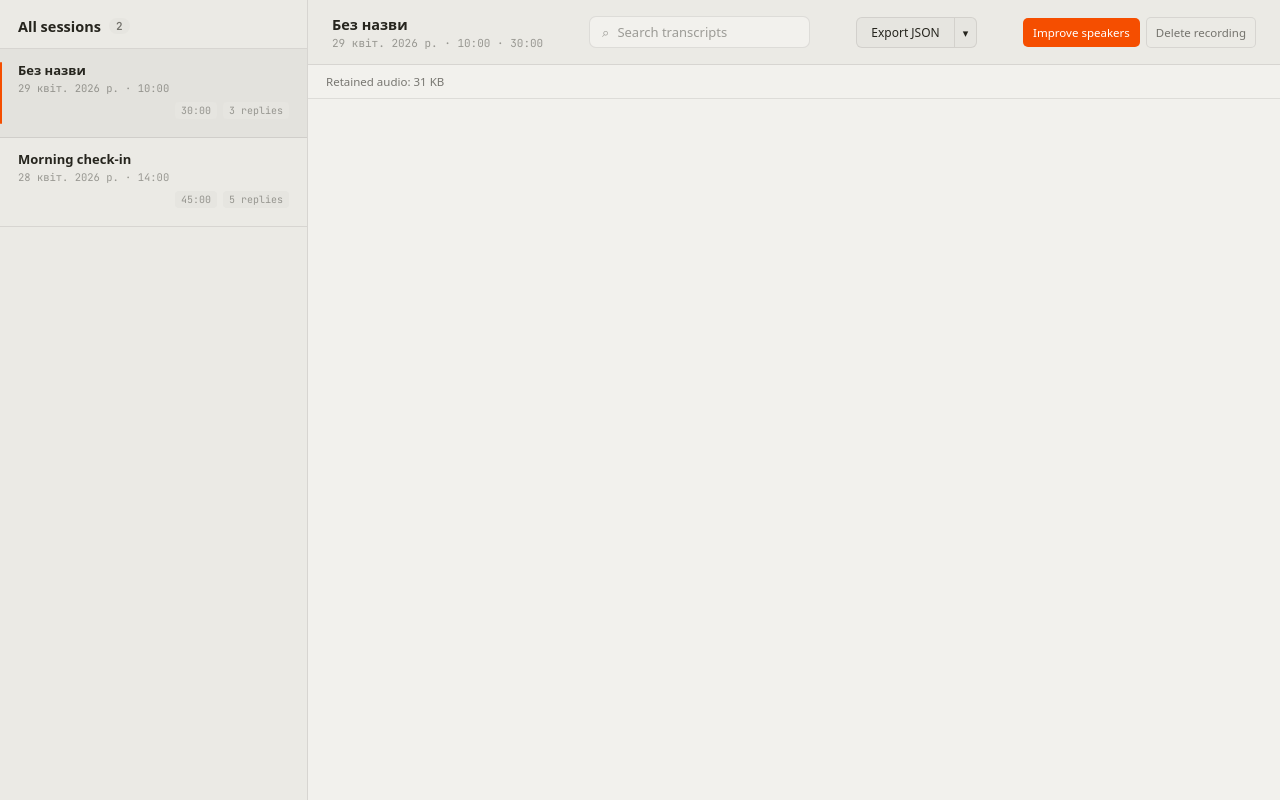
Test: AllSessions inline rename › starts refinement for a retained completed recording
Click the button with test id "start-refinement": coordinates (1081, 32) [1023,18,1140,46]
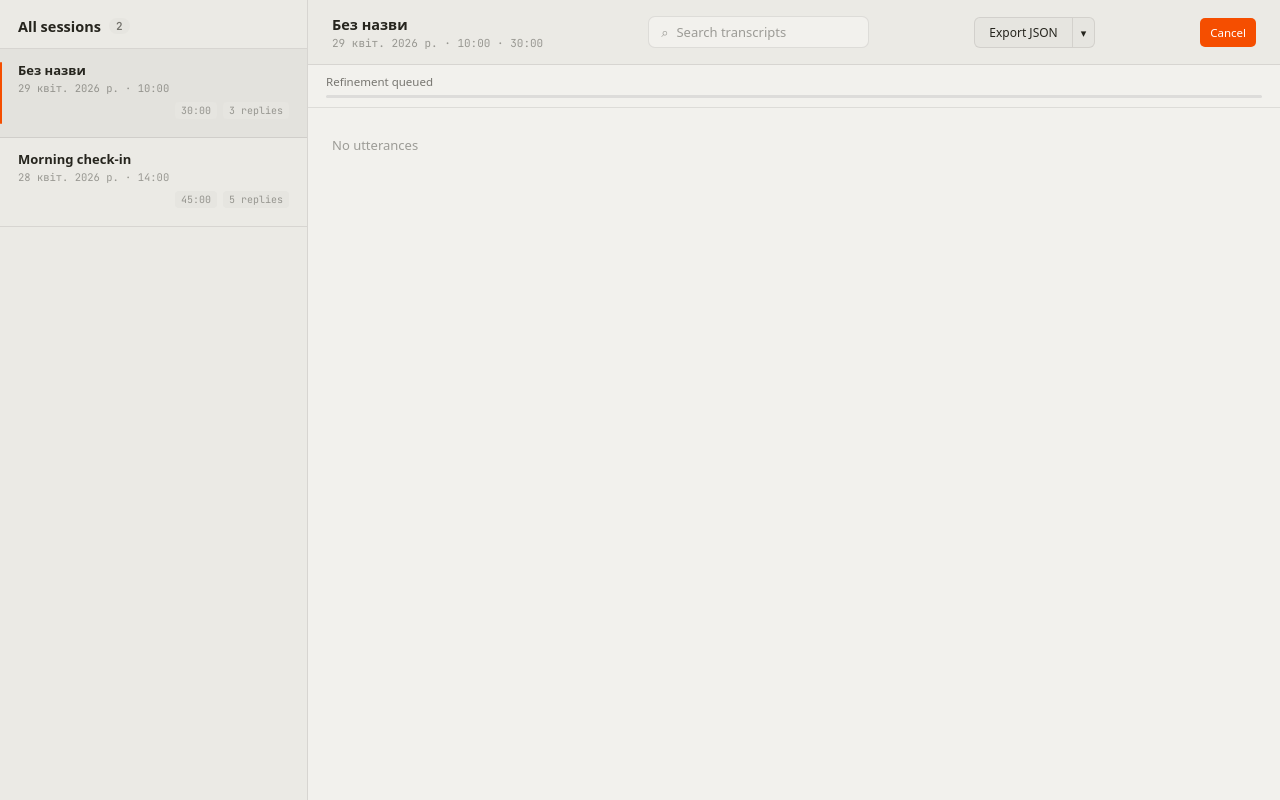
Check: the text "Refinement queued" is shown, box [326,74,433,89]
